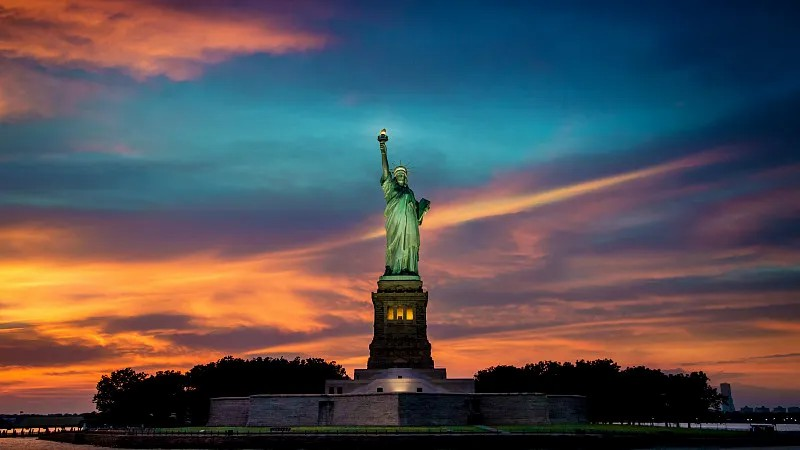SL: (366, 128, 434, 371)
